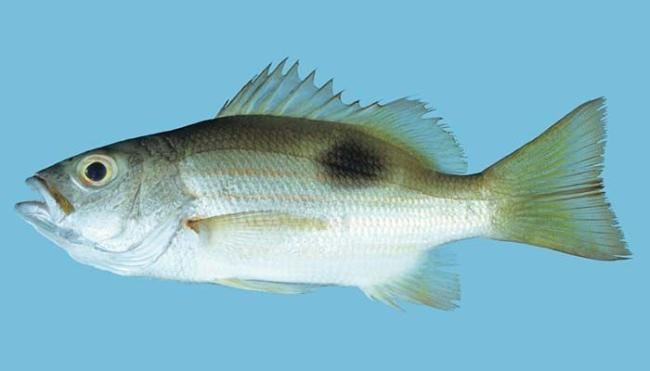fish: (14, 54, 634, 314)
